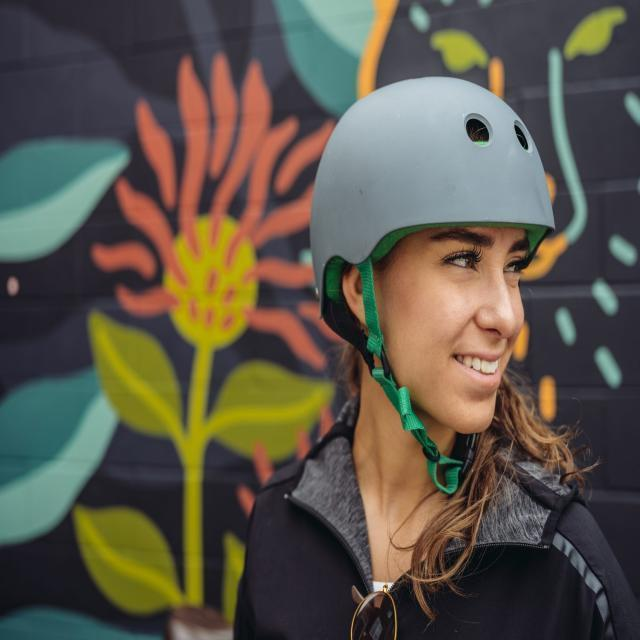helmet: (314, 74, 556, 498)
